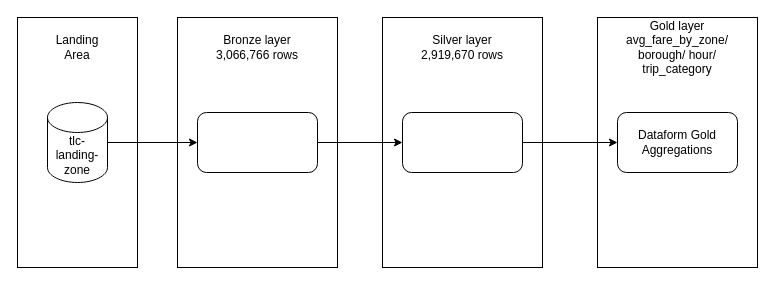
Some shapes in this 775 by 285 pixel diagram are drawn without their labels. The box of each missing label's shape, as (x1, y1, x2, y2) in pixels:
Dataform gold transformation: (402, 112, 522, 172)
Datafrom silver transformation + assertions: (196, 112, 318, 172)
